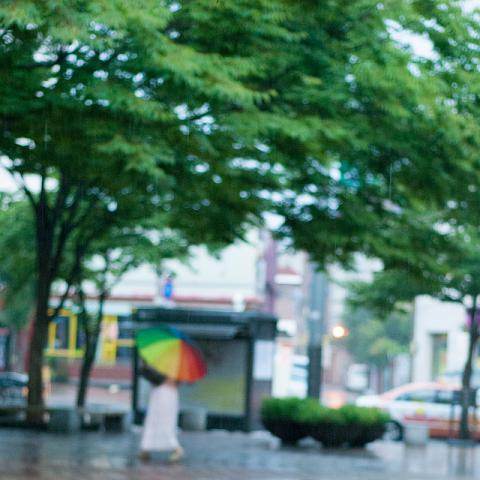car: (354, 381, 479, 444), (0, 372, 30, 422)
